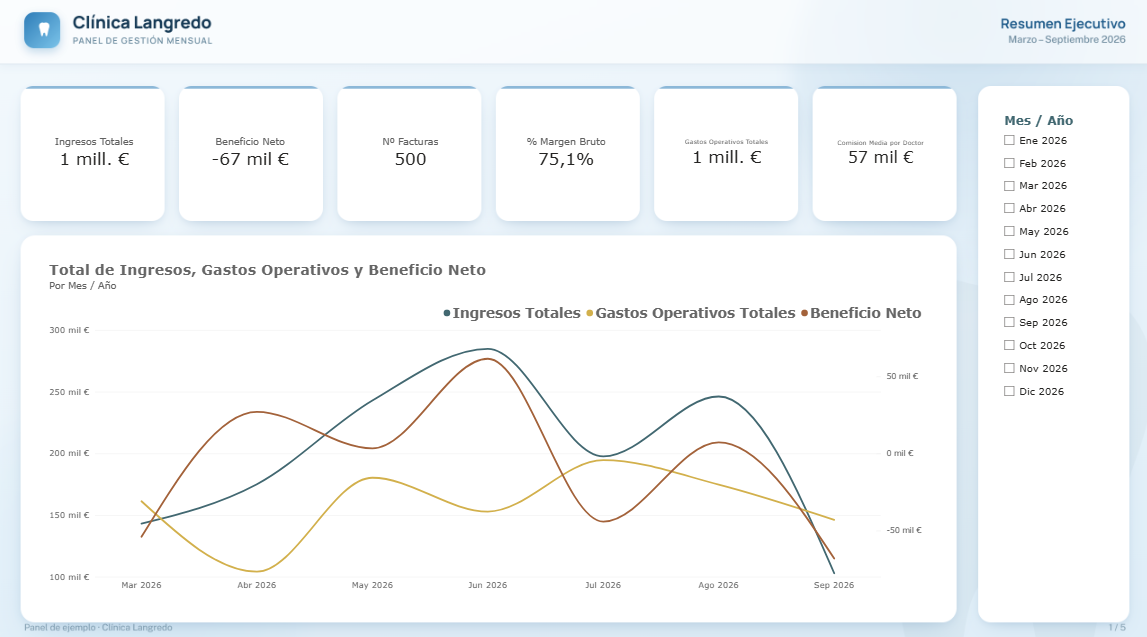

Layout of this report page (visuals, bound fields, positions):
{"tool":"powerbi","page":{"name":"Resumen Ejecutivo","canvas":[1920,1080],"ordinal":0},"visuals":[{"type":"cardVisual","fields":{"Data":["_Medidas.Ingresos Totales"]},"box":[67.8,172.2,182.2,167.8],"z":0},{"type":"cardVisual","fields":{"Data":["_Medidas.Beneficio Neto"]},"box":[326.7,172.2,182.2,167.8],"z":1000},{"type":"cardVisual","fields":{"Data":["_Medidas.% Margen Bruto"]},"box":[855.5,171.8,180.9,168.2],"z":2000},{"type":"cardVisual","fields":{"Data":["_Medidas.Nº Facturas"]},"box":[598.9,172.2,171.1,167.8],"z":3000},{"type":"lineChart","title":"Total de Ingresos, Gastos Operativos y Beneficio Neto","fields":{"Category":["Calendario.MesAño"],"Y":["_Medidas.Ingresos Totales","_Medidas.Gastos Operativos Totales"],"Y2":["_Medidas.Beneficio Neto"]},"box":[67.5,422.5,1492.5,582.5],"z":4000},{"type":"cardVisual","fields":{"Data":["_Medidas.Gastos Operativos Totales"]},"box":[1120.9,171.8,185.5,168.2],"z":5000},{"type":"cardVisual","fields":{"Data":["_Medidas.Comision Media por Doctor"]},"box":[1380,171.8,180,168.2],"z":6000},{"type":"slicer","fields":{"Values":["Calendario.MesAño"]},"box":[1667.5,190,197.5,815],"z":7000}]}

Visuals, with their boxes in screenshot pixels (x1, y1, x2, y2), scaled from the page's 1920x1080 canvas onto the 1147x637 screenshot:
cardVisual - _Medidas.Ingresos Totales: <region>41, 102, 149, 201</region>
cardVisual - _Medidas.Beneficio Neto: <region>195, 102, 304, 201</region>
cardVisual - _Medidas.% Margen Bruto: <region>511, 101, 619, 201</region>
cardVisual - _Medidas.Nº Facturas: <region>358, 102, 460, 201</region>
"Total de Ingresos, Gastos Operativos y Beneficio Neto" lineChart: <region>40, 249, 932, 593</region>
cardVisual - _Medidas.Gastos Operativos Totales: <region>670, 101, 780, 201</region>
cardVisual - _Medidas.Comision Media por Doctor: <region>824, 101, 932, 201</region>
slicer - Calendario.MesAño: <region>996, 112, 1114, 593</region>
